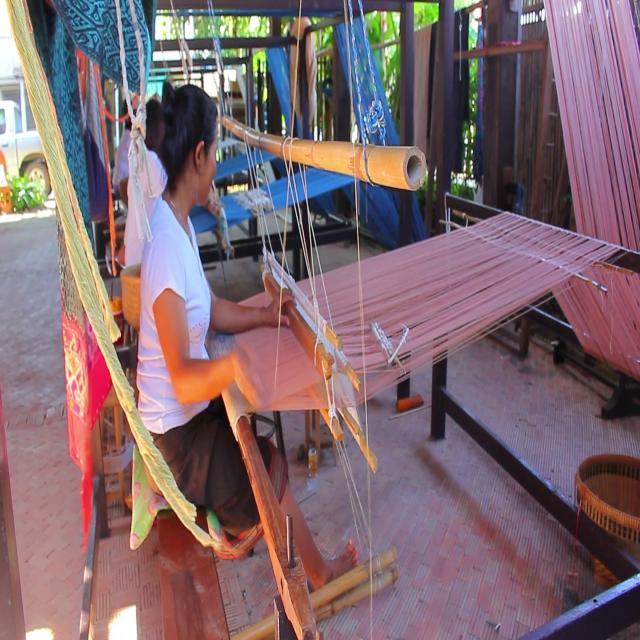not-gloved: (264, 289, 294, 329)
